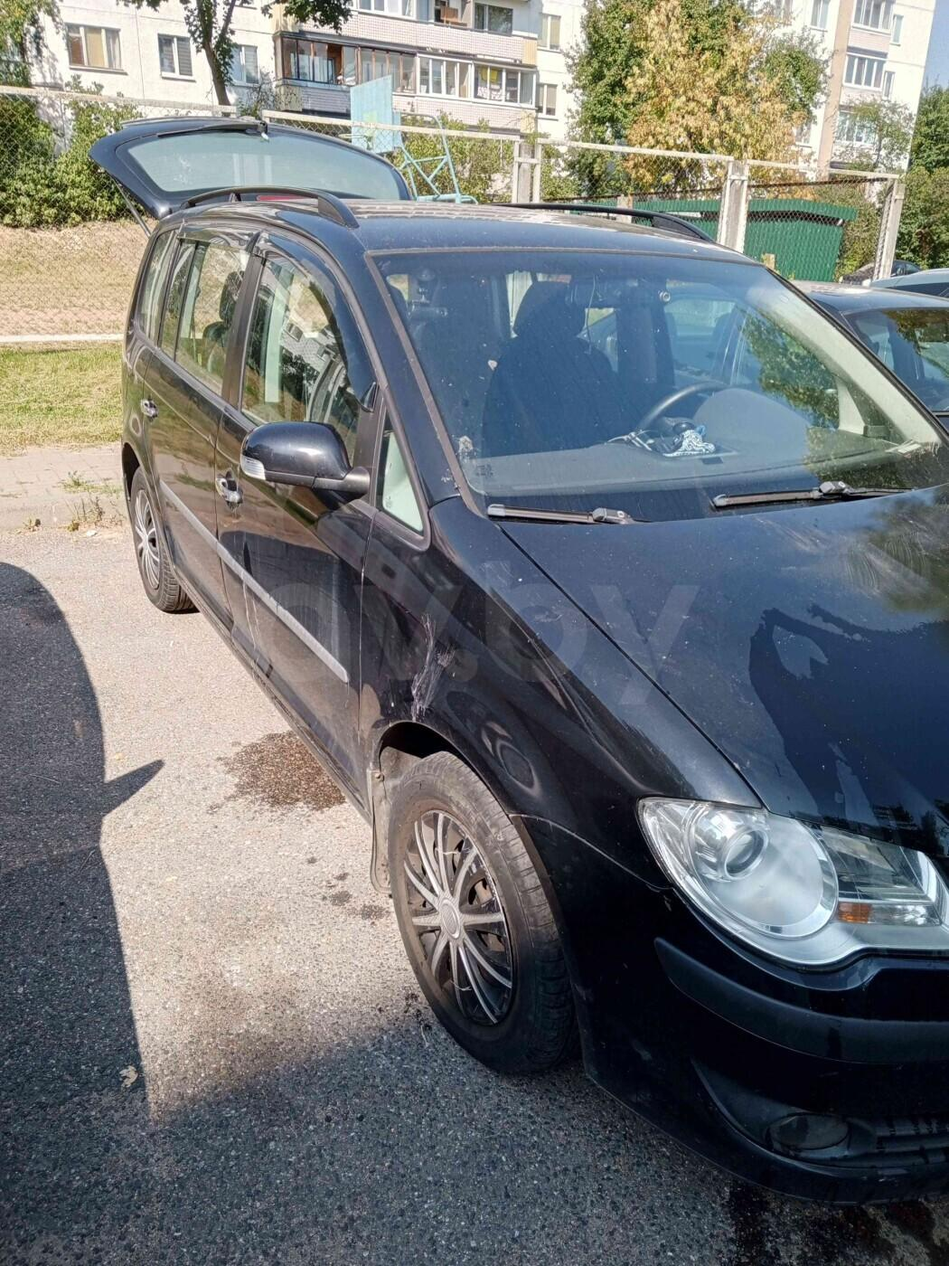Touran_2006-2010: (117, 183, 949, 1203)
